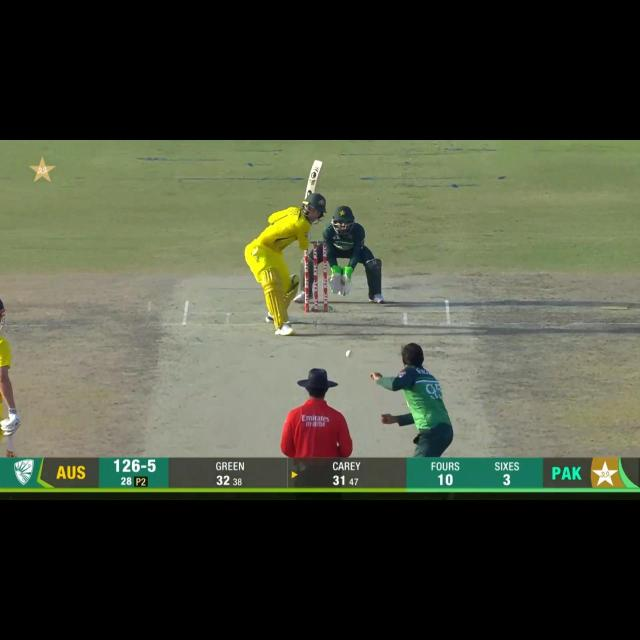bat: (304, 157, 324, 202), (3, 446, 17, 461)
toe: (310, 158, 323, 174)
